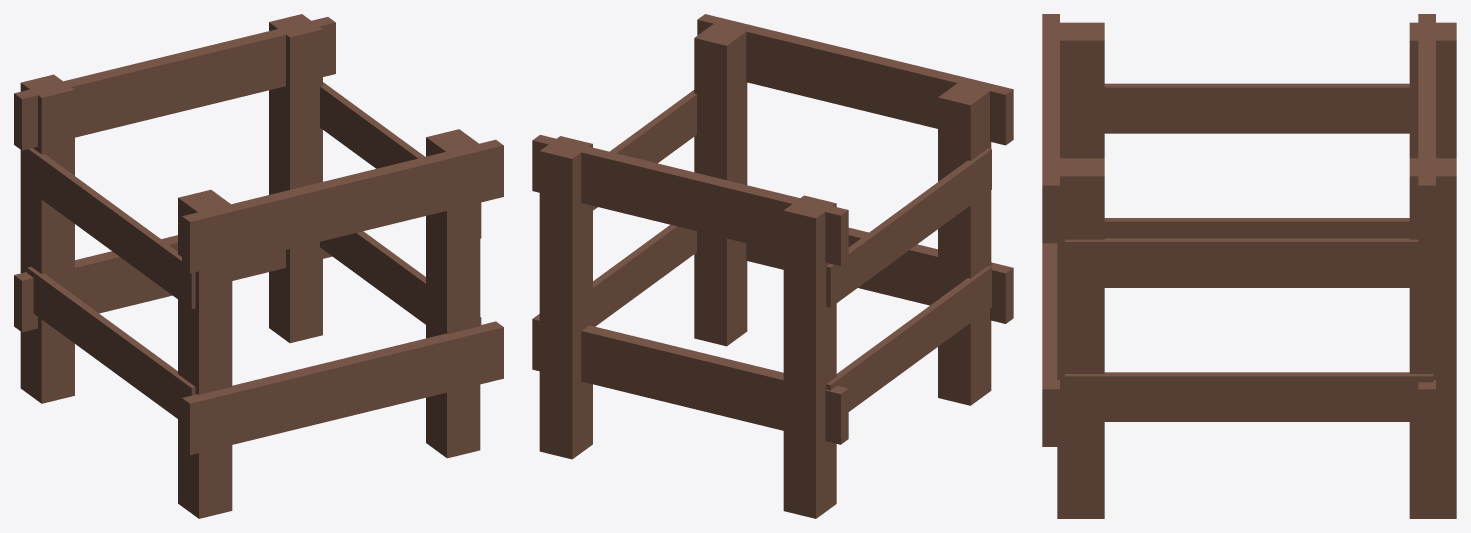
The model's file is base_pilar.fbx.
3 renders of one model, left to right at view 1: azimuth 30°, elevation 25°; view 2: azimuth 150°, elevation 25°; view 3: azimuth 270°, elevation 25°, orthographic. The views are drawn at different scales.
Visible parts, largest first — view 1: base_pilar; view 2: base_pilar; view 3: base_pilar.
Boxes of the visible parts, <box> form: base_pilar: <box>14,14,503,518</box>; base_pilar: <box>532,14,1013,518</box>; base_pilar: <box>1042,14,1456,518</box>.
Bounding box in the file's own units: 215 × 200 × 219.
